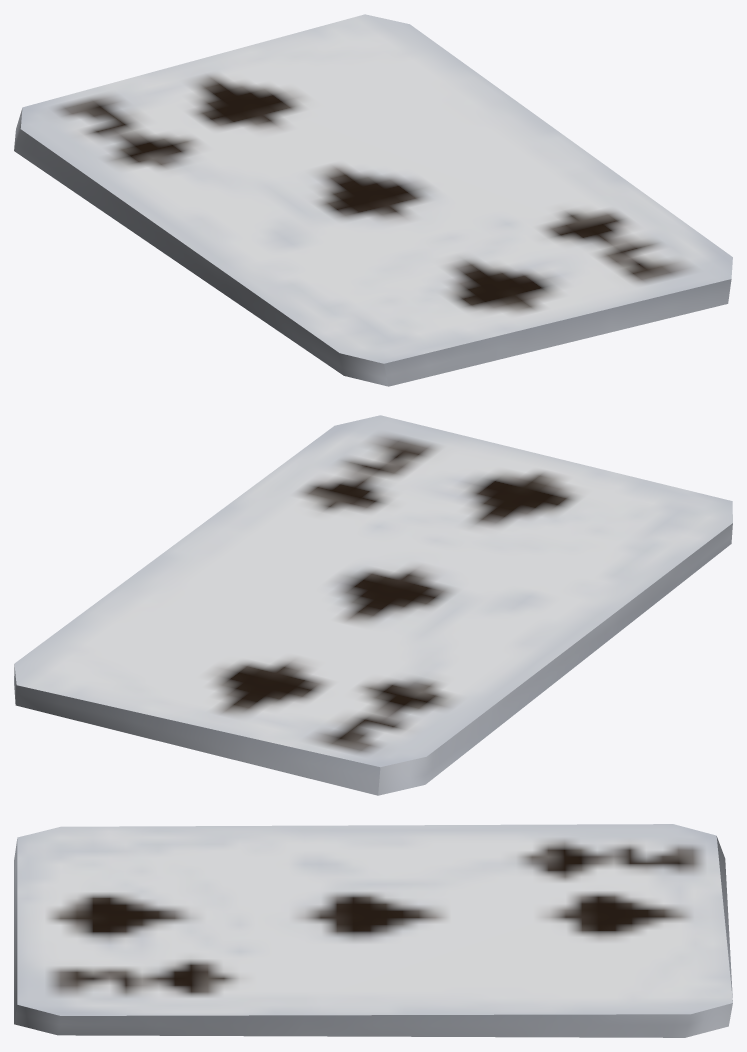
The model's file is SM_PROP_cards_city_03.fbx.
3 views of the same model, one above another, from view 1: azimuth 30°, elevation 25°; view 2: azimuth 150°, elevation 25°; view 3: azimuth 270°, elevation 25° (orthographic). The views are drawn at different scales.
Visible parts, largest first — view 1: SM_PROP_cards_city_03; view 2: SM_PROP_cards_city_03; view 3: SM_PROP_cards_city_03.
Part boxes in pixels (x1,y1,x2,y2): SM_PROP_cards_city_03: (14,14,732,386); SM_PROP_cards_city_03: (14,415,732,795); SM_PROP_cards_city_03: (14,824,732,1037).
Size of the model in its own units: 10.22 by 0.6237 by 15.95.
